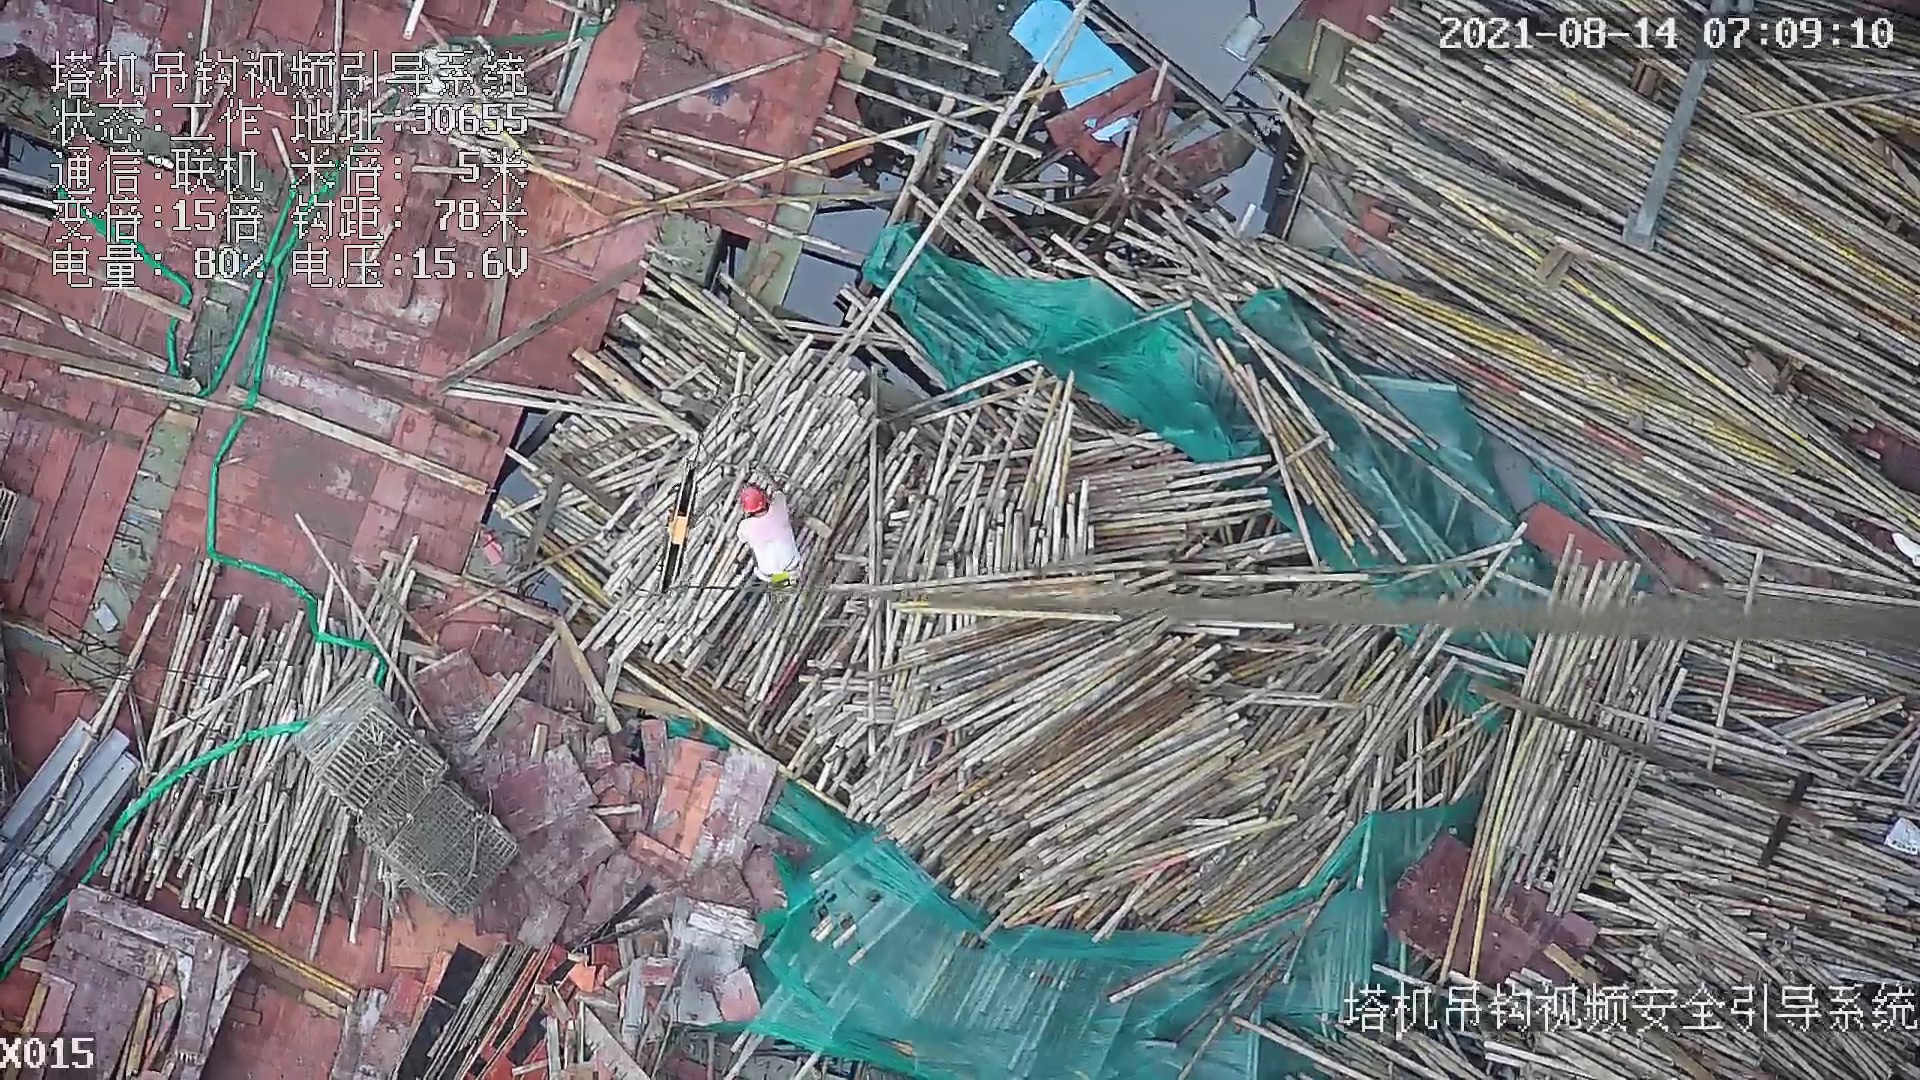helmet: (738, 483, 769, 513)
hook: (650, 455, 703, 599)
person: (722, 482, 801, 589)
